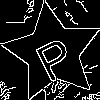P: (28, 28, 79, 84)
